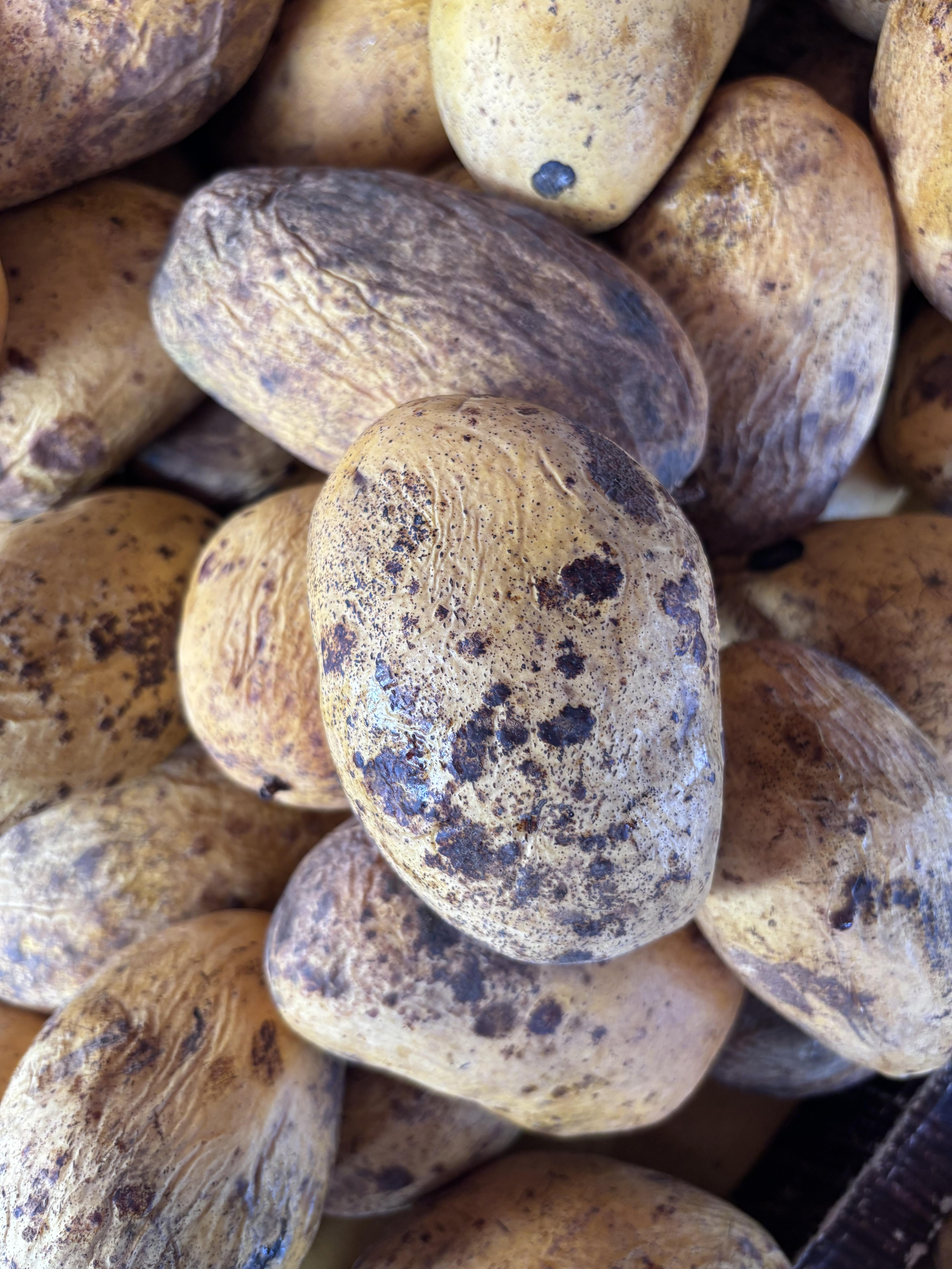mango: (310, 396, 722, 961)
occluded: (152, 167, 707, 489), (266, 819, 742, 1136), (618, 77, 898, 554), (0, 910, 342, 1269), (698, 640, 952, 1075), (0, 742, 340, 1011), (429, 0, 748, 232), (0, 489, 217, 829), (0, 178, 203, 519), (713, 514, 952, 761), (0, 0, 281, 208), (355, 1151, 788, 1269), (220, 0, 450, 172), (870, 0, 952, 318)
